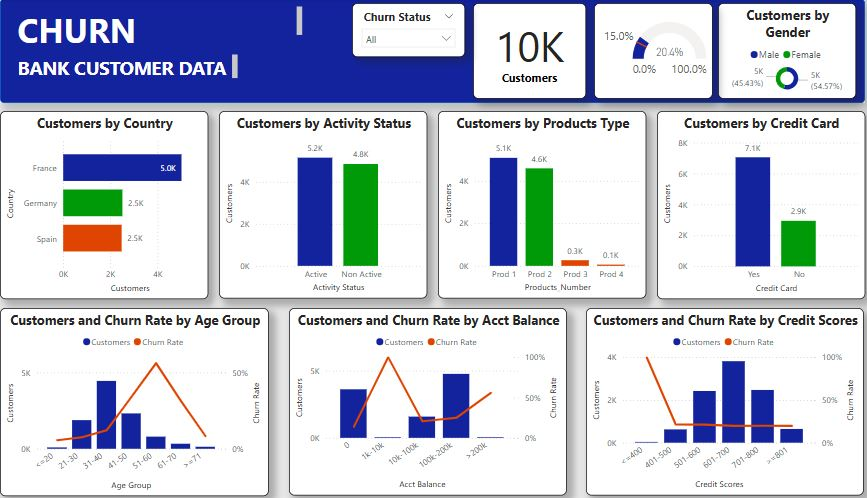

This screenshot's page, from the dashboard's own definition file:
{"tool":"powerbi","page":{"name":"Churn Analysis","canvas":[1280,720],"ordinal":0},"visuals":[{"type":"shape","box":[13,0,1245.6,149.8],"z":0},{"type":"card","fields":{"Values":["Customer Data.Customers"]},"box":[694.1,5.8,162.7,138.2],"z":1000},{"type":"columnChart","fields":{"Category":["Customer Data.Activity Status"],"Y":["Customer Data.Customers"]},"box":[328.3,161.5,300,270],"z":2000},{"type":"columnChart","fields":{"Category":["Customer Data.Credit Card"],"Y":["Customer Data.Customers"]},"box":[959,161.1,299.5,270.7],"z":3000},{"type":"donutChart","fields":{"Category":["Customer Data.Gender"],"Y":["Customer Data.Customers"]},"box":[1046.9,5.8,198.7,138.2],"z":4000},{"type":"clusteredBarChart","fields":{"Category":["Customer Data.Country"],"Y":["Customer Data.Customers"]},"box":[13,161.1,300,270.7],"z":5000},{"type":"columnChart","title":"Customers by Products Type","fields":{"Category":["Customer Data.Products_Number"],"Y":["Customer Data.Customers"]},"box":[643.7,161.5,300,270],"z":6000},{"type":"lineStackedColumnComboChart","fields":{"Category":["Age Group.Age Group"],"Y":["Customer Data.Customers"],"Y2":["Customer Data.Churn Rate"]},"box":[13,445,387.4,270.7],"z":7000},{"type":"lineStackedColumnComboChart","fields":{"Y":["Customer Data.Customers"],"Y2":["Customer Data.Churn Rate"],"Category":["Acct Balance Group.Acct Balance"]},"box":[428.4,445,400,270],"z":8000},{"type":"lineStackedColumnComboChart","fields":{"Y":["Customer Data.Customers"],"Y2":["Customer Data.Churn Rate"],"Category":["Credit Scores.Credit Scores"]},"box":[856.8,445,400,270],"z":9000},{"type":"gauge","fields":{"Y":["Customer Data.Churn Rate"],"MinValue":["Min(Customer Data.Min Value)"],"MaxValue":["Max(Customer Data.Max Value)"],"TargetValue":["Min(Customer Data.Target Value)"]},"box":[868.3,5.8,171.4,138.2],"z":10000},{"type":"slicer","fields":{"Values":["Customer Data.Churn Status"]},"box":[519.8,5.8,162.7,77.8],"z":11000},{"type":"textbox","box":[33.1,5.8,420.5,82.1],"z":12000},{"type":"textbox","box":[33.1,74.9,326.9,44.6],"z":13000}]}

Visuals, with their boxes in screenshot pixels (x1, y1, x2, y2), scaled from the page's 1280x720 canvas onto the 867x498 screenshot:
shape: [x1=9, y1=0, x2=853, y2=104]
card - Customer Data.Customers: [x1=470, y1=4, x2=580, y2=100]
columnChart - Customer Data.Activity Status x Customer Data.Customers: [x1=222, y1=112, x2=426, y2=298]
columnChart - Customer Data.Credit Card x Customer Data.Customers: [x1=650, y1=111, x2=852, y2=299]
donutChart - Customer Data.Gender x Customer Data.Customers: [x1=709, y1=4, x2=844, y2=100]
clusteredBarChart - Customer Data.Country x Customer Data.Customers: [x1=9, y1=111, x2=212, y2=299]
"Customers by Products Type" columnChart: [x1=436, y1=112, x2=639, y2=298]
lineStackedColumnComboChart - Age Group.Age Group x Customer Data.Customers: [x1=9, y1=308, x2=271, y2=495]
lineStackedColumnComboChart - Customer Data.Customers x Customer Data.Churn Rate: [x1=290, y1=308, x2=561, y2=495]
lineStackedColumnComboChart - Customer Data.Customers x Customer Data.Churn Rate: [x1=580, y1=308, x2=851, y2=495]
gauge - Customer Data.Churn Rate x Min(Customer Data.Min Value): [x1=588, y1=4, x2=704, y2=100]
slicer - Customer Data.Churn Status: [x1=352, y1=4, x2=462, y2=58]
textbox: [x1=22, y1=4, x2=307, y2=61]
textbox: [x1=22, y1=52, x2=244, y2=83]
